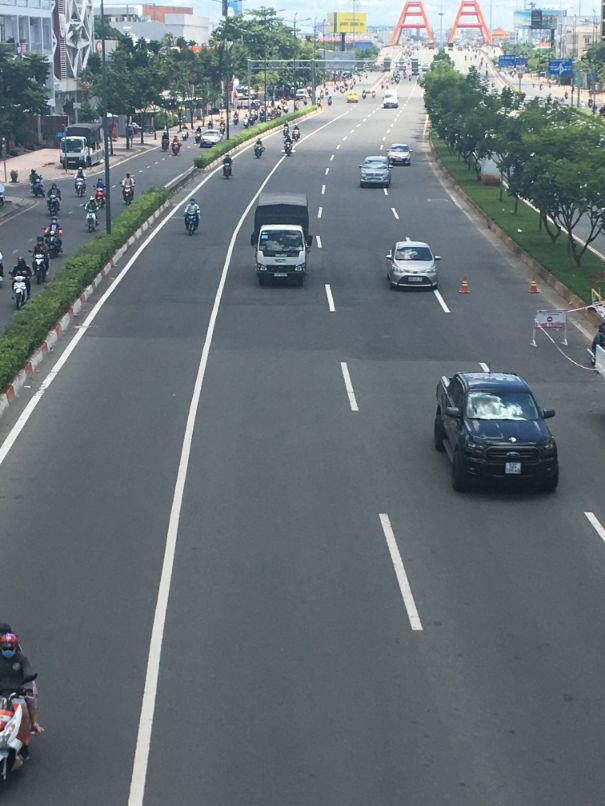car: (434, 368, 559, 495), (387, 241, 443, 294), (359, 156, 392, 191), (388, 145, 411, 167), (382, 96, 400, 111)
motorbike: (0, 676, 43, 798), (13, 278, 30, 308), (185, 201, 200, 234), (172, 137, 181, 156)
truck: (253, 193, 308, 286), (60, 119, 108, 172)
